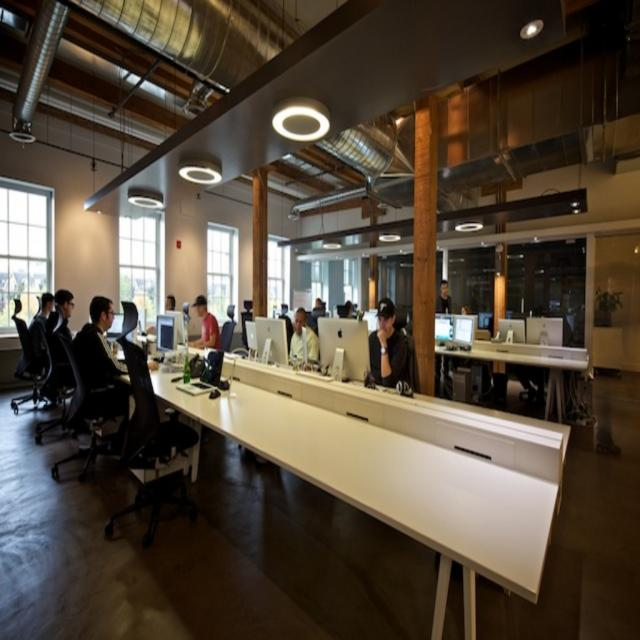chair: (104, 338, 200, 546), (45, 331, 125, 483), (34, 327, 77, 445), (11, 321, 52, 416)
desk: (117, 345, 564, 628)
person: (73, 294, 134, 430), (368, 297, 410, 388), (186, 294, 221, 352), (289, 306, 319, 366), (50, 288, 77, 342), (220, 304, 236, 350), (310, 296, 327, 334), (437, 279, 452, 314), (165, 293, 176, 312)
tv: (156, 315, 176, 352), (435, 315, 453, 341)
